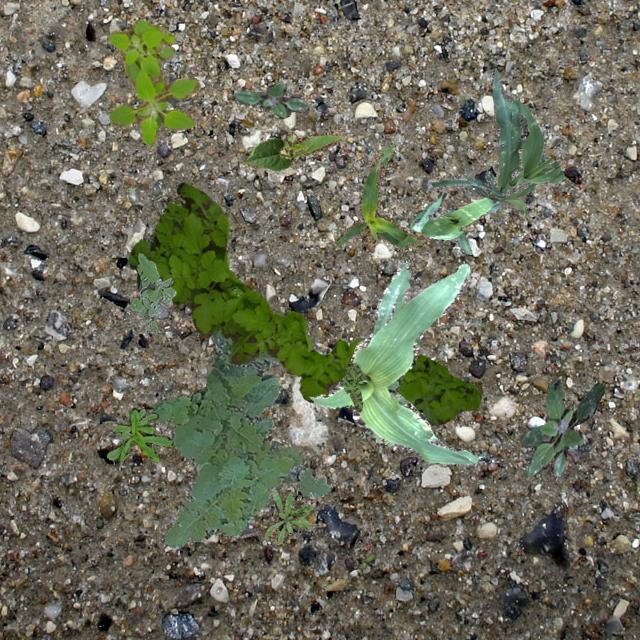crop: (309, 262, 481, 464), (430, 68, 564, 214), (334, 142, 426, 248), (408, 190, 500, 253), (242, 128, 346, 170)
weed: (126, 182, 482, 424), (150, 328, 328, 548), (106, 18, 198, 144), (520, 380, 604, 476), (126, 252, 174, 332), (106, 406, 172, 461), (258, 488, 314, 544), (234, 81, 308, 118), (342, 362, 364, 411)
